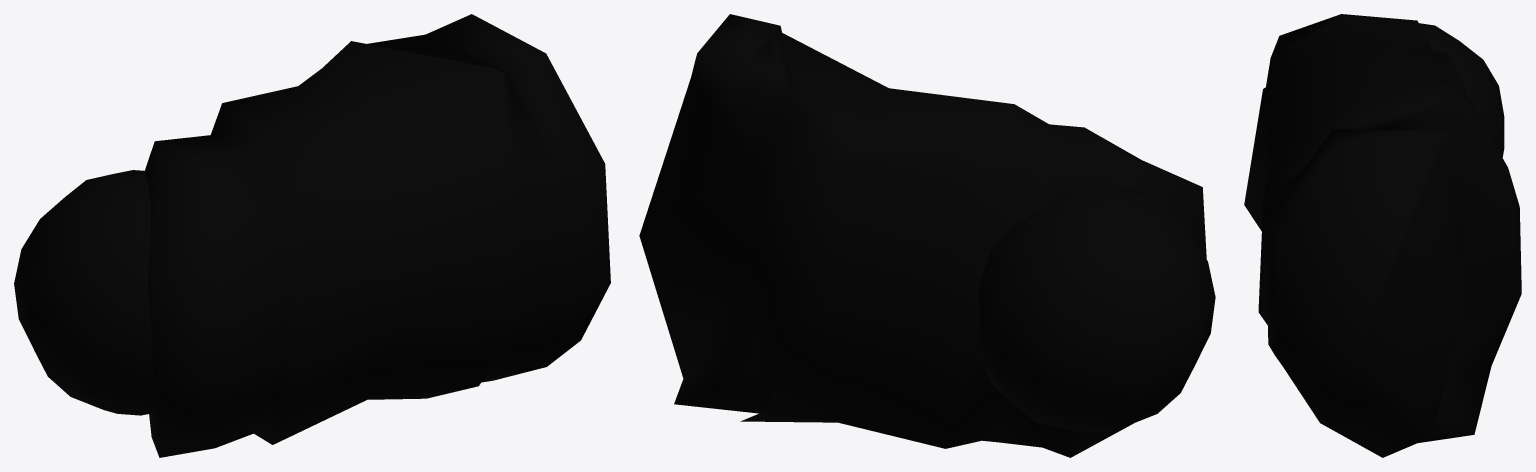
Rendered from RFinger11.obj.
The picture shows the model from 3 angles, left to right: view 1: azimuth 30°, elevation 25°; view 2: azimuth 150°, elevation 25°; view 3: azimuth 270°, elevation 25°; orthographic projection. The views are drawn at different scales.
Bounding box in the file's own units: 0.2753 × 0.1684 × 0.133.
